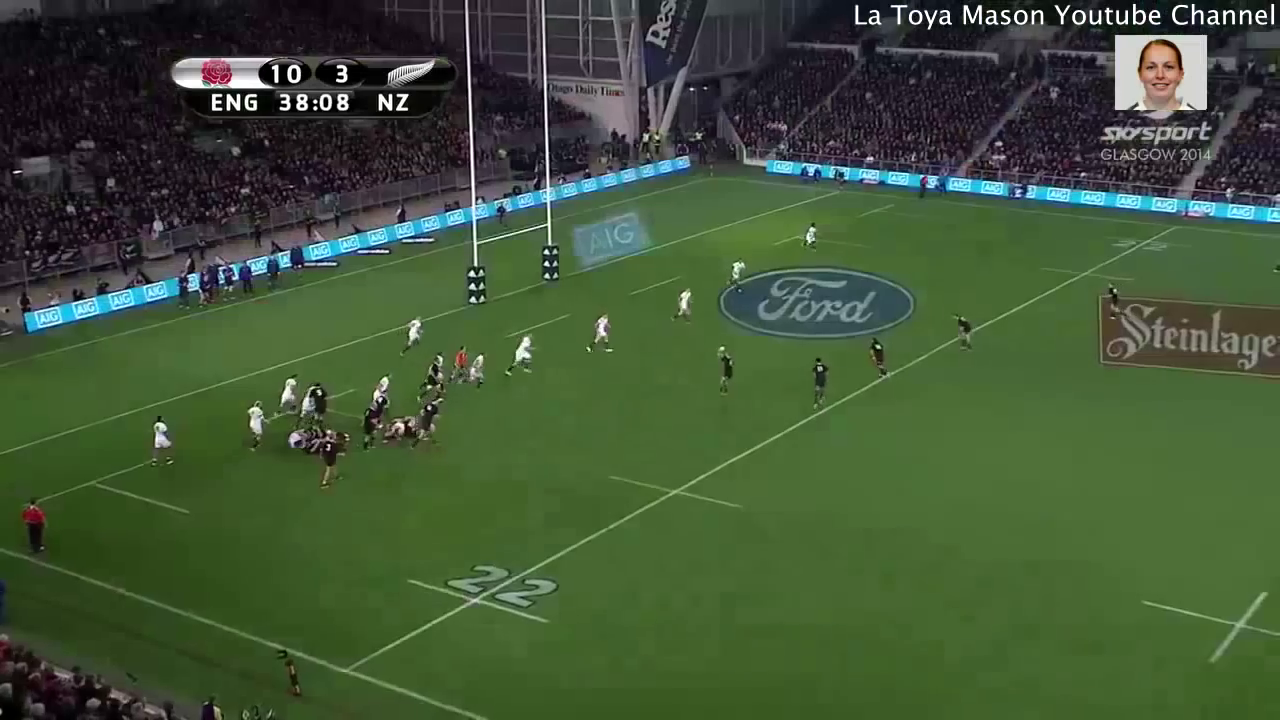10_metre: (1136, 582, 1280, 675)
ball: (717, 344, 727, 352)
player: (147, 411, 181, 468), (415, 389, 445, 452), (502, 332, 537, 380), (865, 334, 893, 390), (271, 367, 299, 422), (712, 344, 739, 400), (244, 393, 267, 457), (318, 429, 341, 489), (443, 341, 471, 389), (949, 311, 977, 359), (352, 401, 380, 448), (585, 313, 616, 355), (397, 315, 426, 358), (416, 356, 444, 400), (810, 357, 832, 413), (666, 285, 694, 327), (1100, 280, 1126, 322), (368, 368, 395, 400), (297, 378, 317, 420), (467, 350, 487, 392), (726, 256, 748, 293), (429, 351, 449, 387), (800, 219, 819, 256), (313, 381, 330, 421), (375, 387, 390, 407)
post: (461, 1, 566, 315)
ruck: (280, 416, 349, 459), (380, 411, 441, 451)
